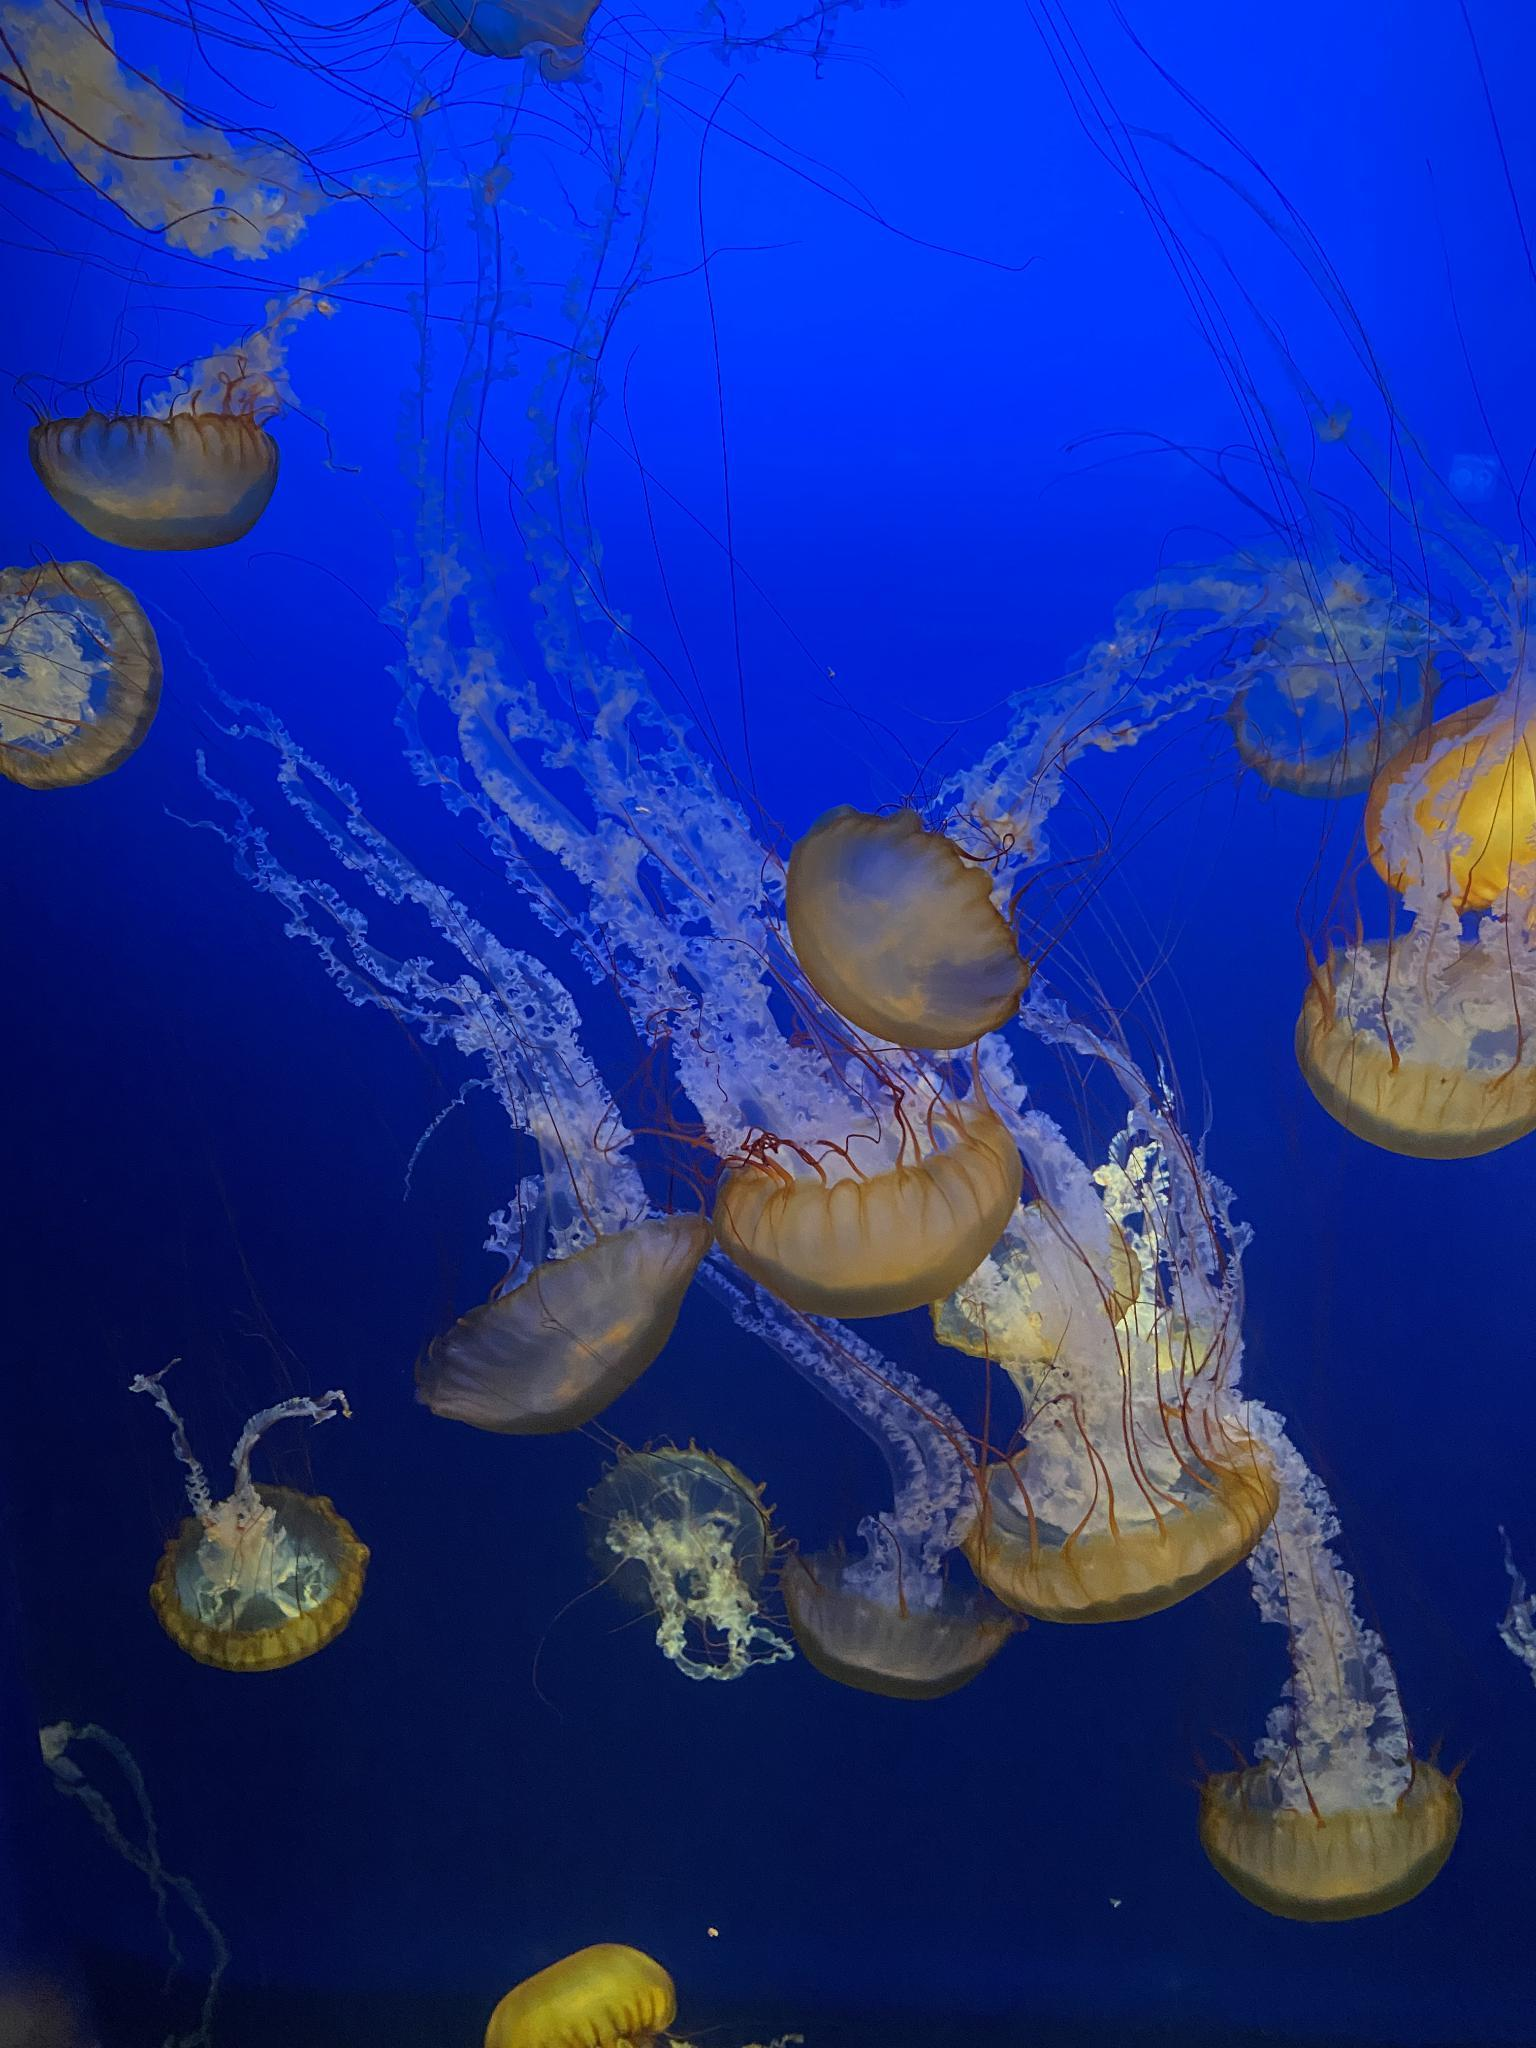jellyfish: (958, 1413, 1283, 1624), (423, 1206, 716, 1438), (724, 1097, 1025, 1321), (786, 806, 1031, 1055), (1297, 932, 1536, 1163), (1199, 1746, 1457, 1922), (150, 1485, 365, 1671), (1363, 695, 1534, 922), (0, 560, 158, 793), (784, 1546, 1020, 1701), (31, 410, 281, 555), (581, 1450, 770, 1621), (1233, 655, 1434, 801), (490, 1942, 676, 2046), (407, 0, 608, 65)
